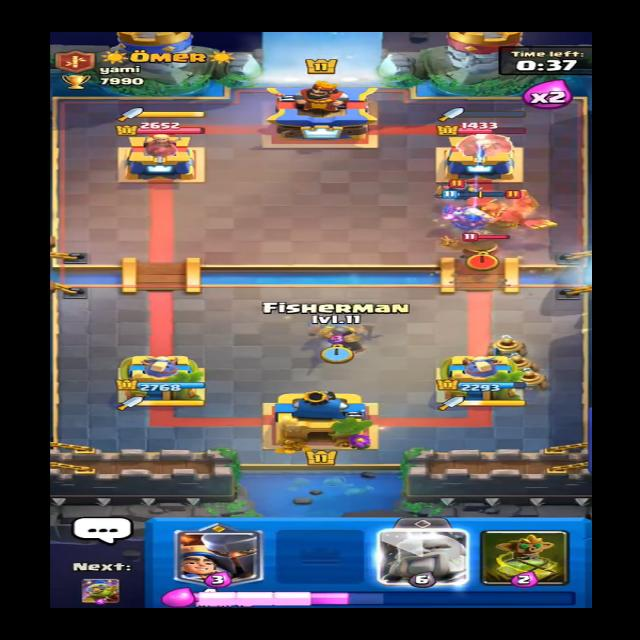Minipekka: (436, 176, 482, 200)
Monk: (441, 229, 512, 260)
Pheonix: (455, 189, 567, 239)
